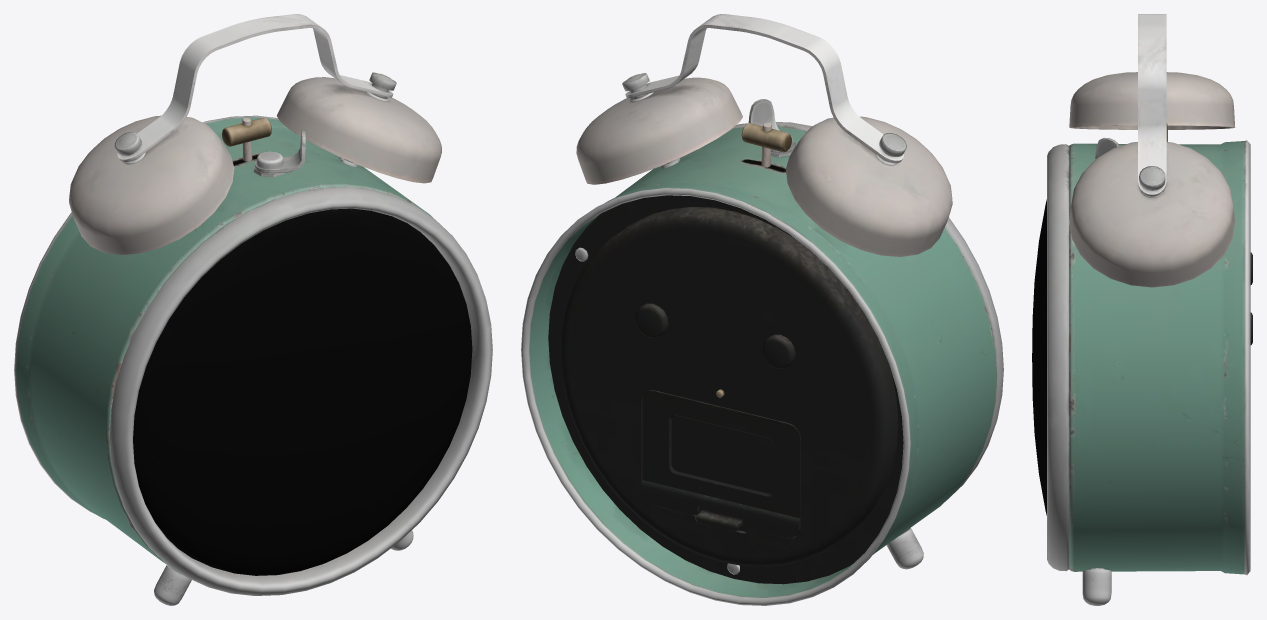
File: alarm_clock_01_1k-transformed.glb
3 views of the same model, side by side, from view 1: azimuth 30°, elevation 25°; view 2: azimuth 150°, elevation 25°; view 3: azimuth 270°, elevation 25° (orthographic). The views are drawn at different scales.
Visible parts, largest first — view 1: alarm_clock_01; view 2: alarm_clock_01; view 3: alarm_clock_01.
Boxes of the visible parts, x1,y1,x2,y2 form: alarm_clock_01: (14, 14, 492, 605); alarm_clock_01: (521, 14, 1003, 605); alarm_clock_01: (1032, 14, 1252, 605).
Bounding box in the file's own units: 0.1317 × 0.1742 × 0.0667.
Materials: 2 (2 with a texture image).
